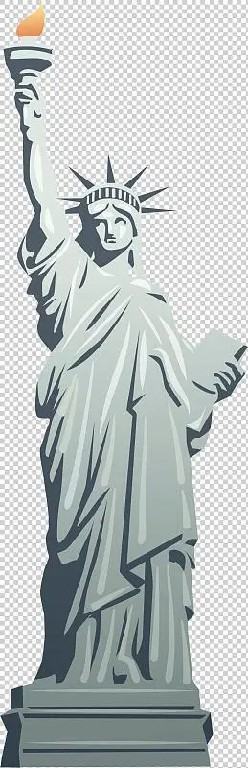SL: (1, 7, 248, 768)
